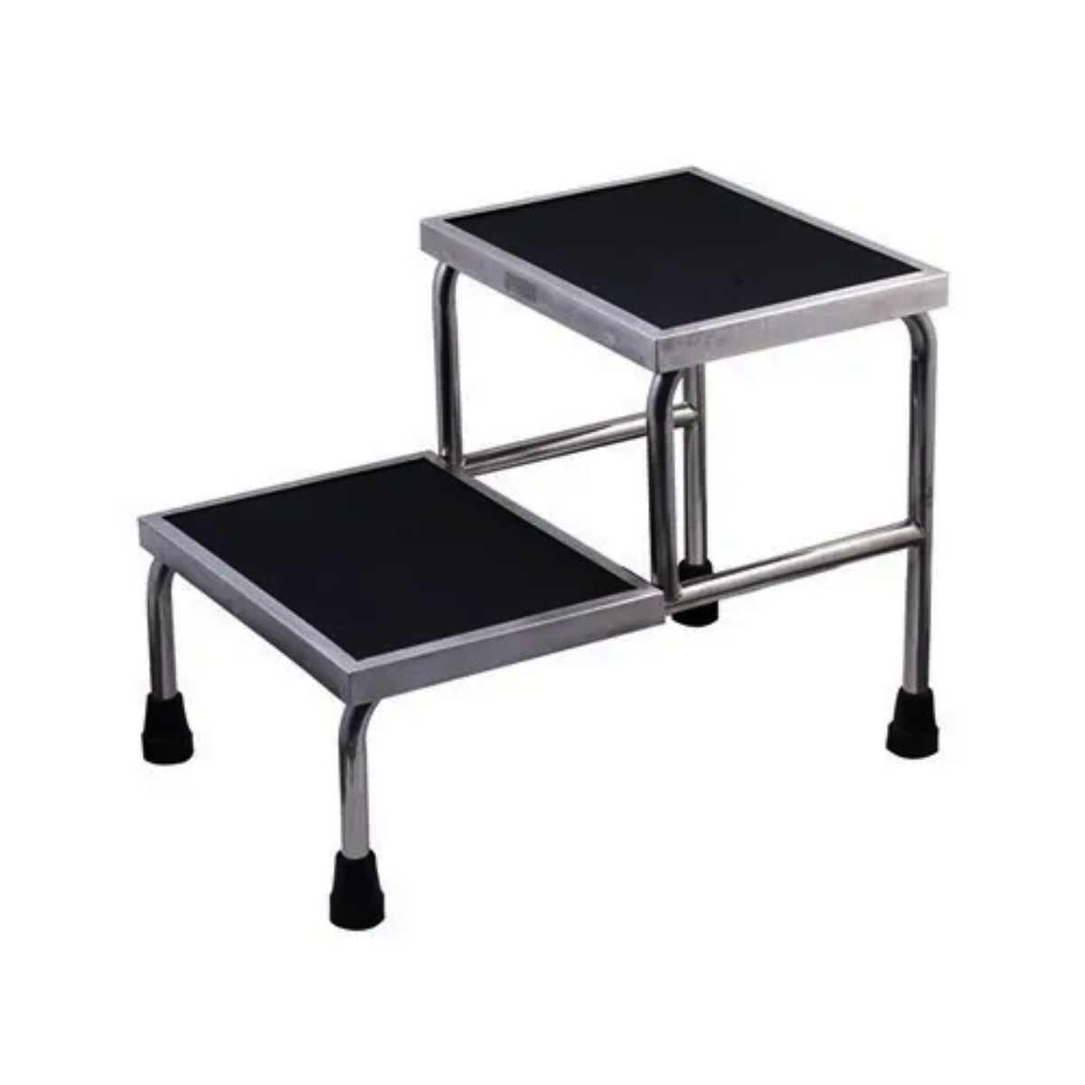stool: (116, 164, 951, 933)
